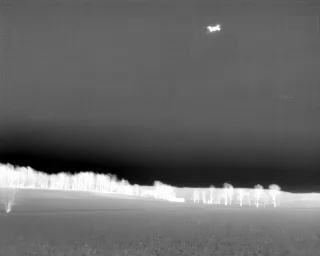DRONE: (203, 19, 226, 39)
